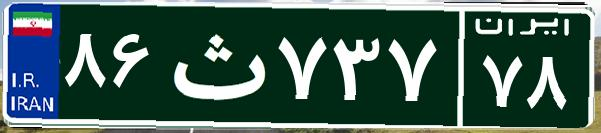3: (330, 28, 385, 110)
6: (110, 28, 158, 105)
7: (385, 28, 445, 110), (273, 28, 330, 110), (475, 38, 525, 113)
8: (57, 26, 110, 107), (525, 38, 570, 115)
ث: (158, 15, 273, 115)
